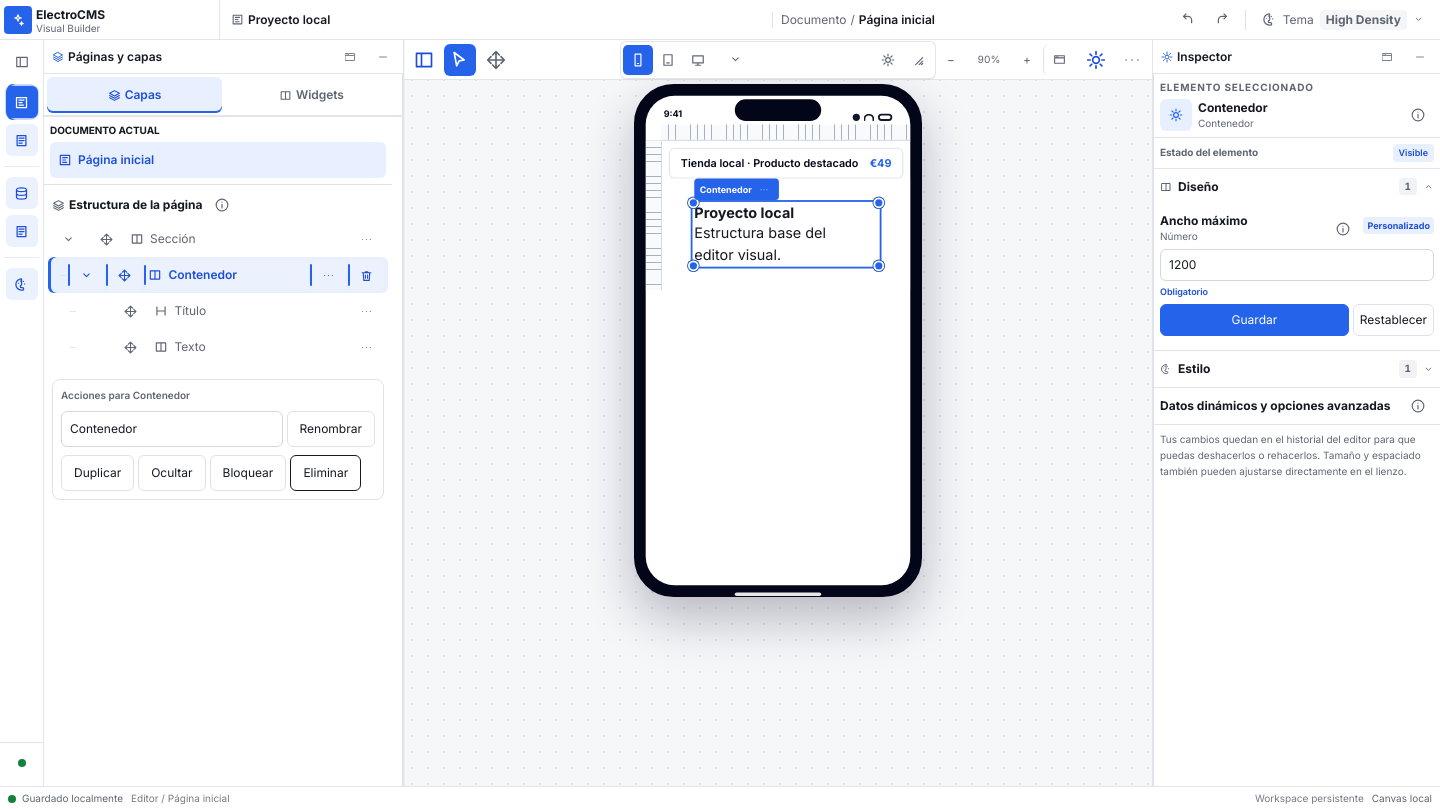
Scenario: App › separa Administración de Contenido en la navegación principal
The image size is (1440, 810).
Click the button named "Contenido" at point(22, 193), box [7, 175, 36, 211]
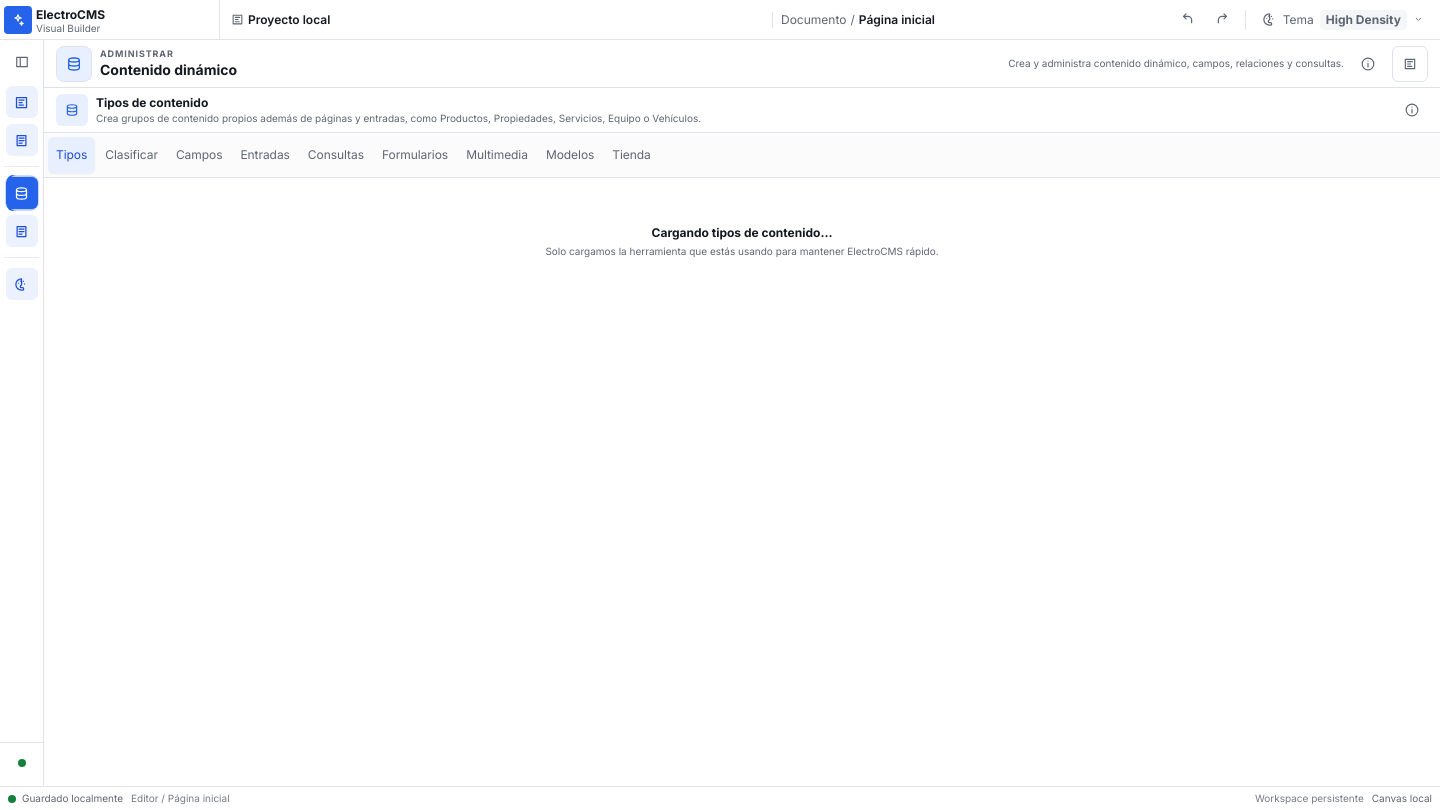
Now the element named "contenido dinámico · módulo principal" is shown
Click the button named "Administración" at point(22, 231), box [7, 213, 36, 249]
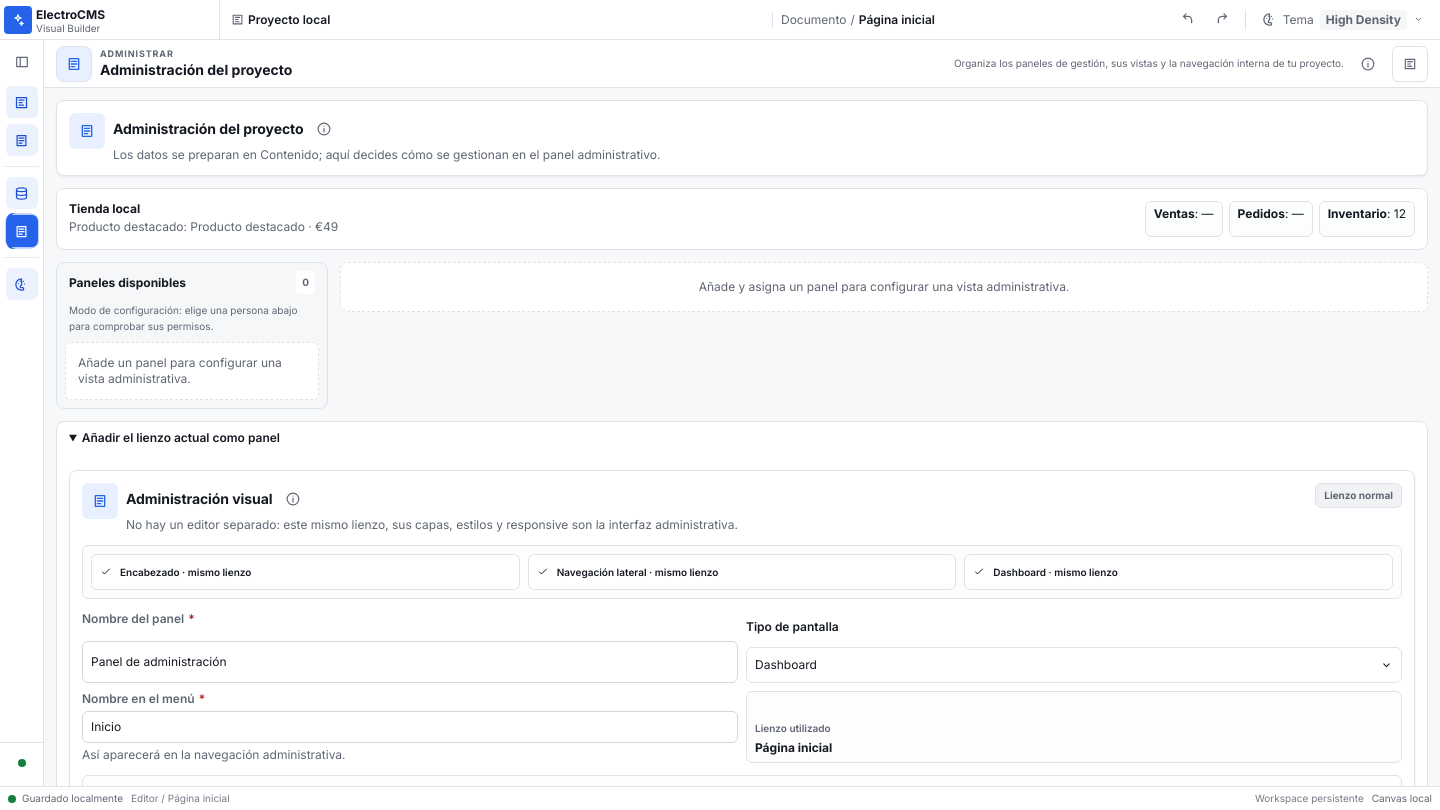
Now the number of headings "Administración del proyecto" is 2, box [100, 61, 292, 78]; [113, 119, 304, 139]
Now the element named "administración del proyecto · módulo principal" is shown
